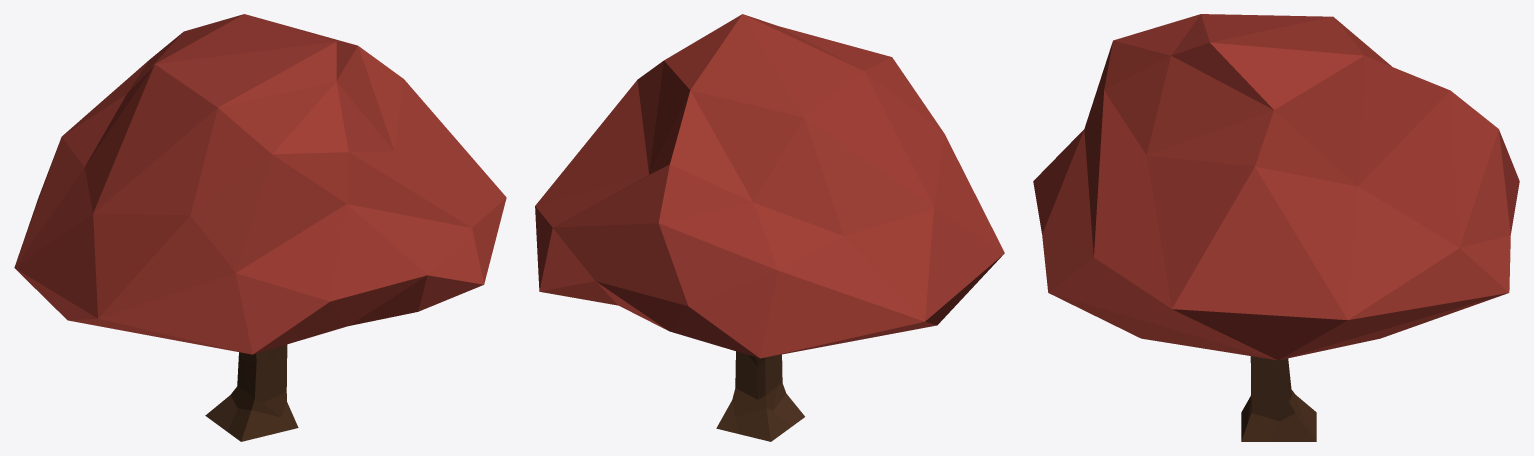
The model's file is Tree_24_Red.fbx.
3 views of the same model, side by side, from view 1: azimuth 30°, elevation 25°; view 2: azimuth 150°, elevation 25°; view 3: azimuth 270°, elevation 25° (orthographic). The views are drawn at different scales.
Parts seen in each view (by area): view 1: Tree_24_Red_Part_1, Tree_24_Red_Part_2; view 2: Tree_24_Red_Part_1, Tree_24_Red_Part_2; view 3: Tree_24_Red_Part_1, Tree_24_Red_Part_2.
Part boxes in pixels (<box>): Tree_24_Red_Part_1: <box>14,14,506,354</box>; Tree_24_Red_Part_2: <box>205,344,298,441</box>; Tree_24_Red_Part_1: <box>535,14,1004,358</box>; Tree_24_Red_Part_2: <box>716,351,804,441</box>; Tree_24_Red_Part_1: <box>1033,14,1519,360</box>; Tree_24_Red_Part_2: <box>1241,356,1316,441</box>.
Size of the model in its own units: 806 by 738 by 791.
